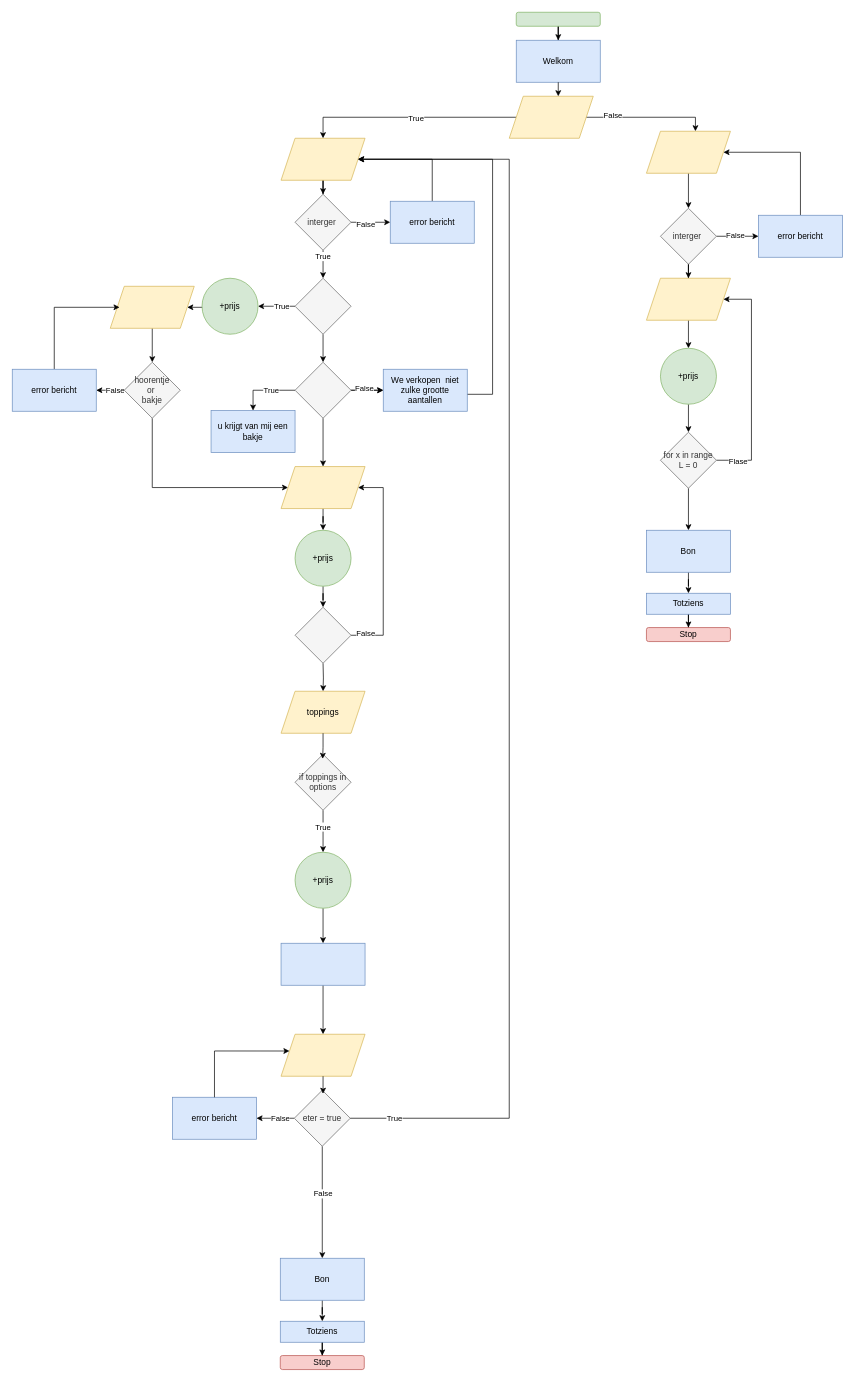
Some shapes in this 855 by 1382 pixel diagram are drawn without their labels. The shapes that lost their labels are listed below. From the top down, each one's box as (x1, y1, x2, y2) in pixels, then its label:
(516, 12, 600, 26): Start
(509, 96, 593, 138): Patuculier
(280, 138, 365, 180): bollen = Bolletjes?
(646, 131, 730, 173): Hoeveel L?
(110, 286, 194, 328): Hoorentje of bakkje
(294, 278, 351, 334): >0 and <4
(646, 278, 730, 320): Smaak L
(294, 362, 351, 418): >3 and <9
(280, 466, 365, 509): Smaak bolletje
(294, 607, 351, 663): for x in range bollen = 0
(280, 943, 365, 985): Kijk eens uw hoorentje/bakkje met {bollen} bolletjes en {toppings}
(280, 1034, 365, 1076): nogeens = wilt u nog iets bestellen?
